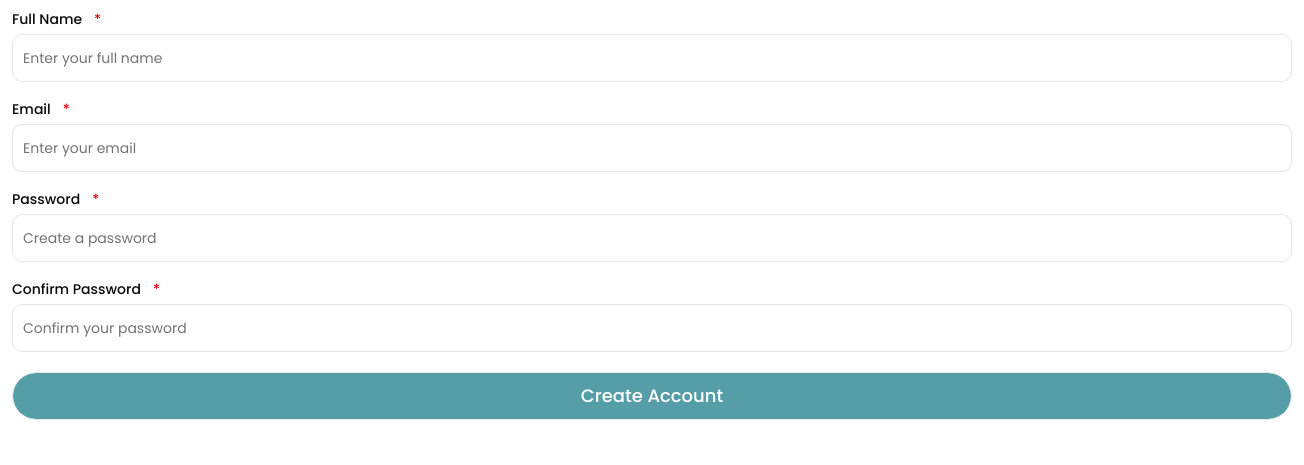
Test: SignUpForm › Validation › shows password validation error
The image size is (1304, 465).
Type "123" into the password field with placeholder "Create a password" at {"x": 652, "y": 238}, box [12,214,1292,262]
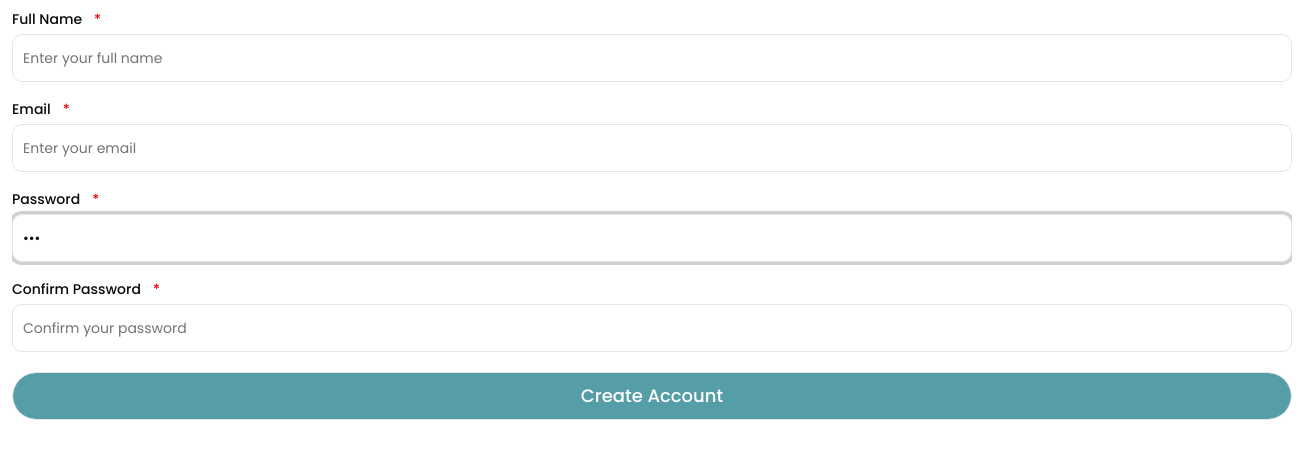
Press Tab
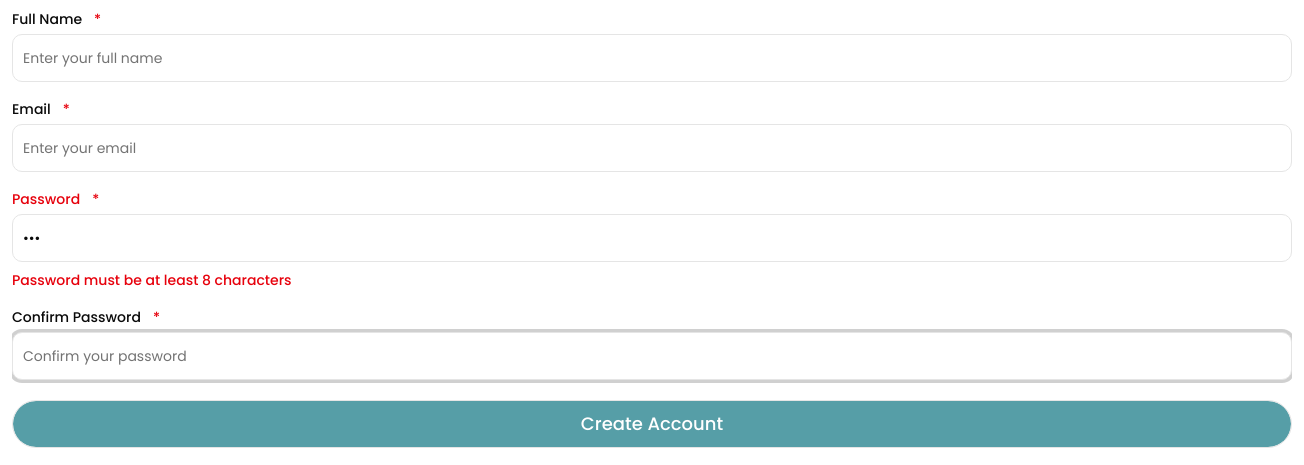
Result: the text "Password must be at least 8 characters" is shown at [12,270,292,290]
